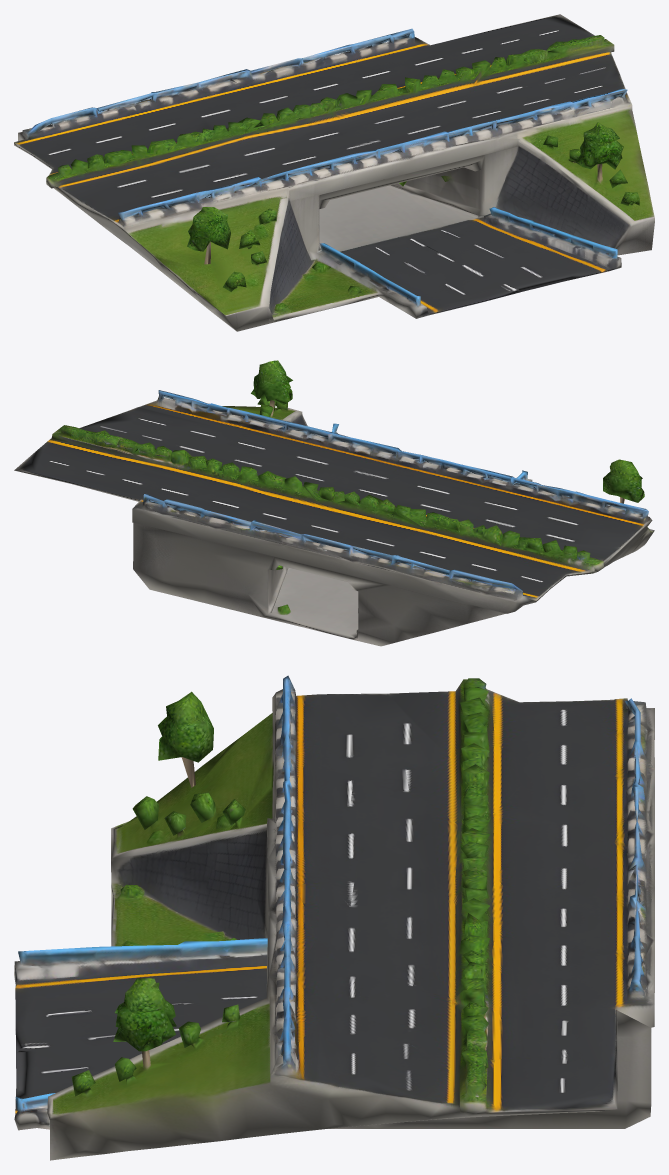
File: underbridge.glb
The picture shows the model from 3 angles, top to bottom: view 1: azimuth 30°, elevation 25°; view 2: azimuth 150°, elevation 25°; view 3: azimuth 270°, elevation 25°; orthographic projection. The views are drawn at different scales.
Parts seen in each view (by area): view 1: tripo_node_d3ac24a2-8908-4601-87d0-4036c0d138dd; view 2: tripo_node_d3ac24a2-8908-4601-87d0-4036c0d138dd; view 3: tripo_node_d3ac24a2-8908-4601-87d0-4036c0d138dd.
Part boxes in pixels (box(x1,y1,x2,y2)): tripo_node_d3ac24a2-8908-4601-87d0-4036c0d138dd: box(14, 14, 654, 331); tripo_node_d3ac24a2-8908-4601-87d0-4036c0d138dd: box(14, 360, 654, 646); tripo_node_d3ac24a2-8908-4601-87d0-4036c0d138dd: box(14, 675, 654, 1160).
Size of the model in its own units: 1 by 0.1841 by 0.6395.
1 material, 1 textured.
